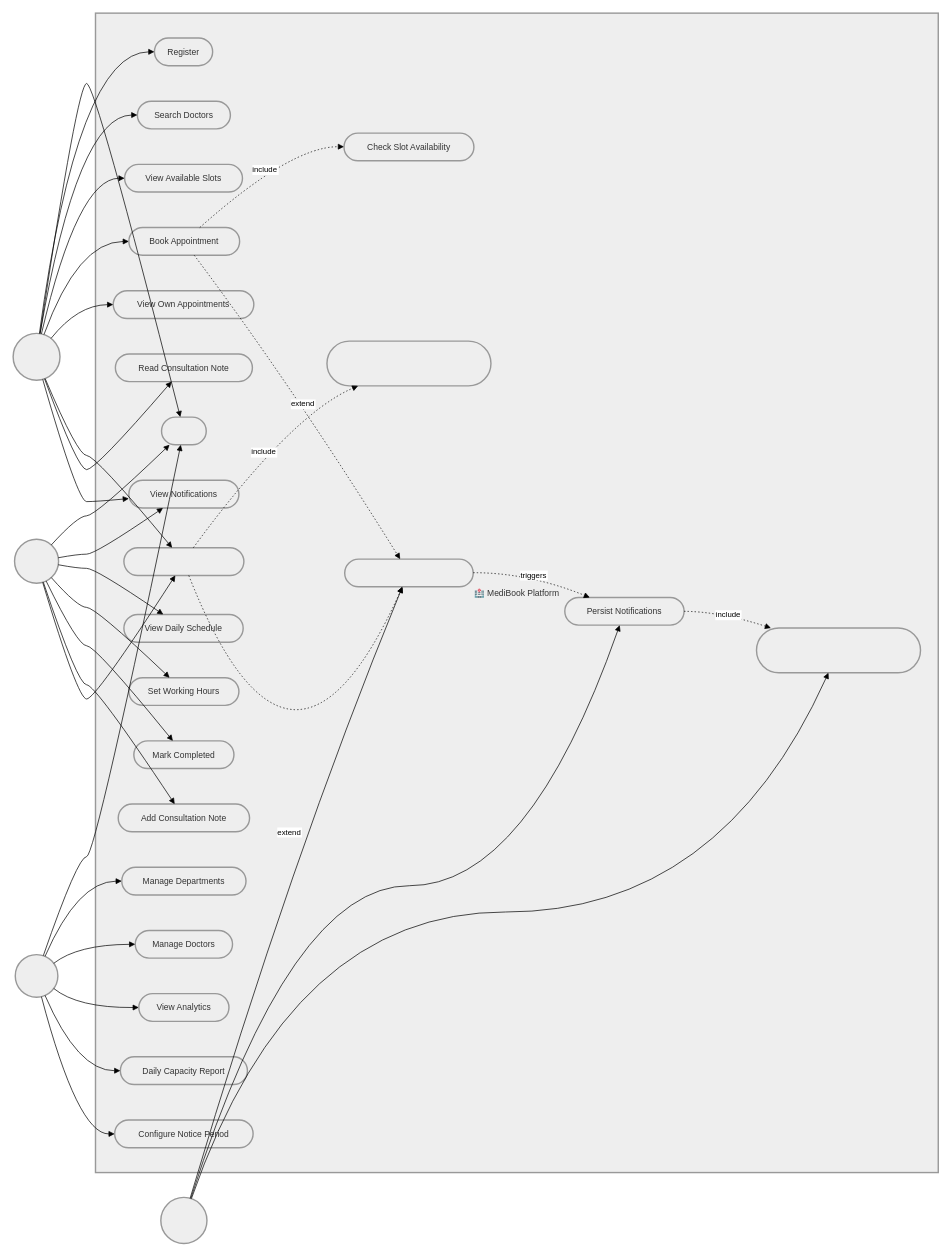
Some shapes in this 951 by 1256 pixel diagram are drawn without their labels. The centre of each missing label's shape, as x and y in pixels:
"Cancel Appointment" goes at pixel 183 561.
"Idempotent Event Processing" goes at pixel 838 650.
"Login" goes at pixel 183 430.
"Publish Booking Event" goes at pixel 409 572.
"Validate Cancellation Notice" goes at pixel 408 363.
"⚙️ System" goes at pixel 183 1220.
"👔 Admin" goes at pixel 36 976.
"👤 Patient" goes at pixel 36 356.
"👨‍⚕️ Doctor" goes at pixel 36 561.
